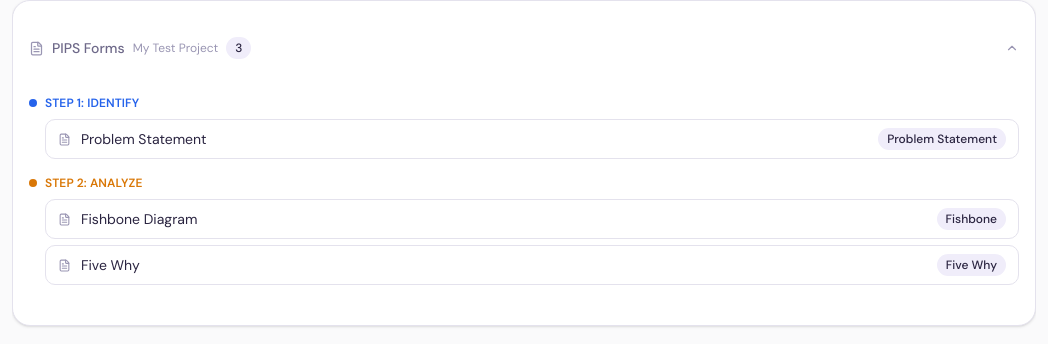
TicketProjectForms › collapses content when toggle is clicked
This screenshot has width=1048, height=344.
Expected: the element with test id "step-group-identify" is shown, [29,95,1019,159]
Click the button with test id "ticket-project-forms-toggle": (88, 48) [13,25,1035,71]
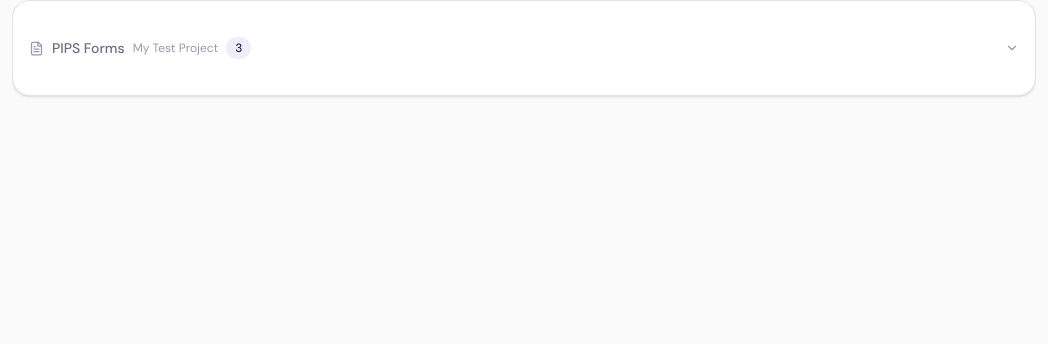
Expected: the element with test id "step-group-identify" is gone
